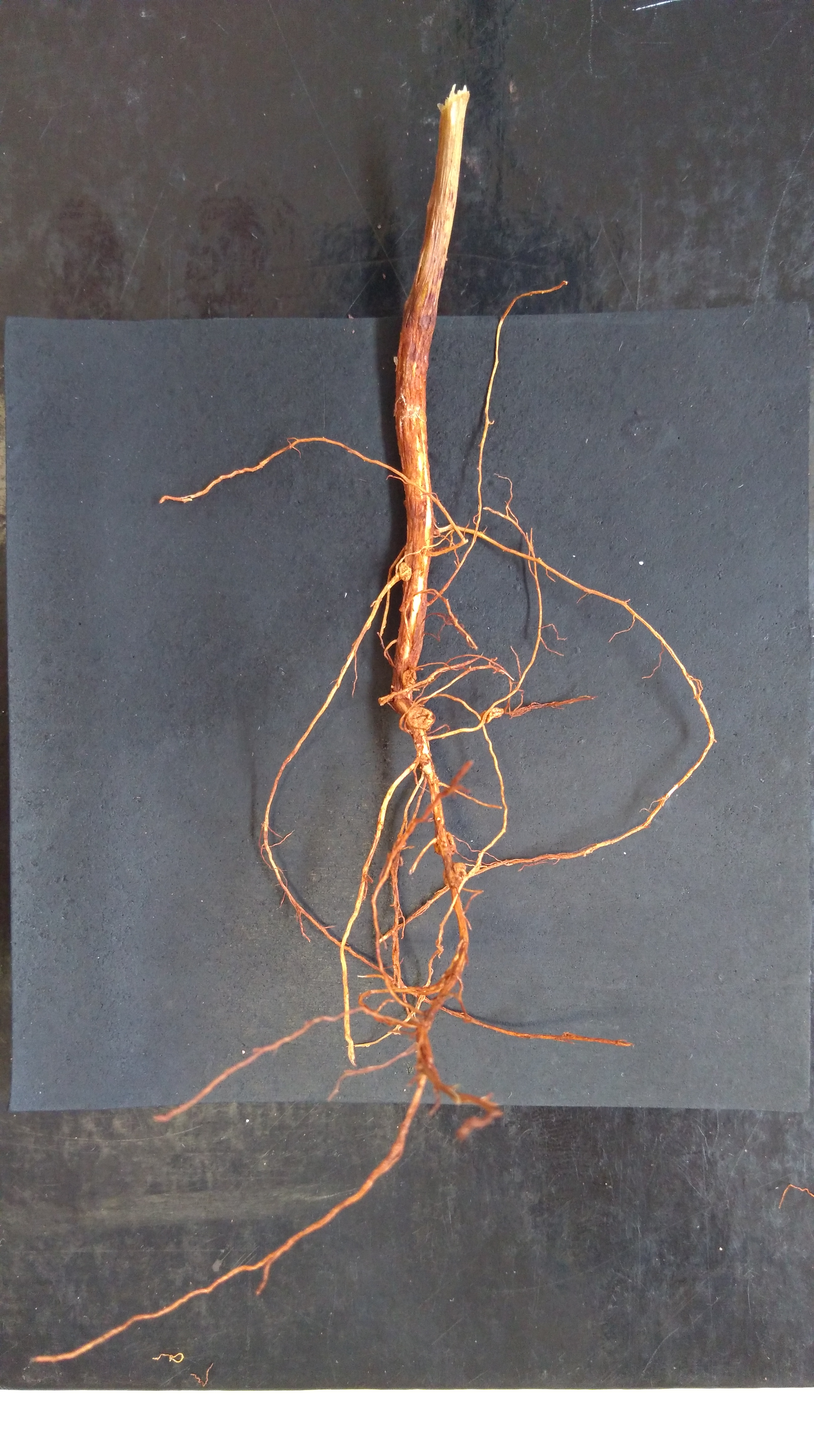nodule: (442, 861, 469, 888), (407, 705, 436, 730), (433, 830, 458, 857), (479, 706, 504, 724), (398, 562, 413, 582), (402, 668, 417, 688)
